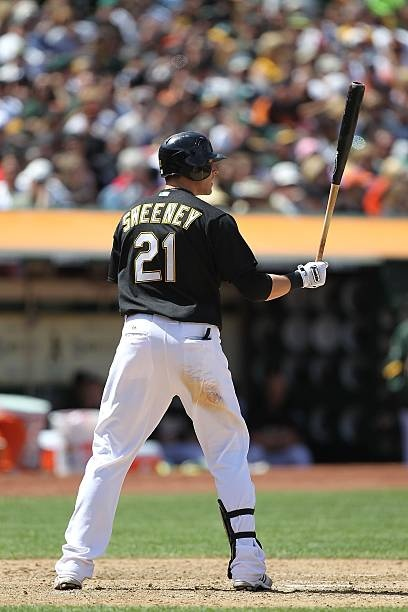bita: (312, 79, 366, 272)
